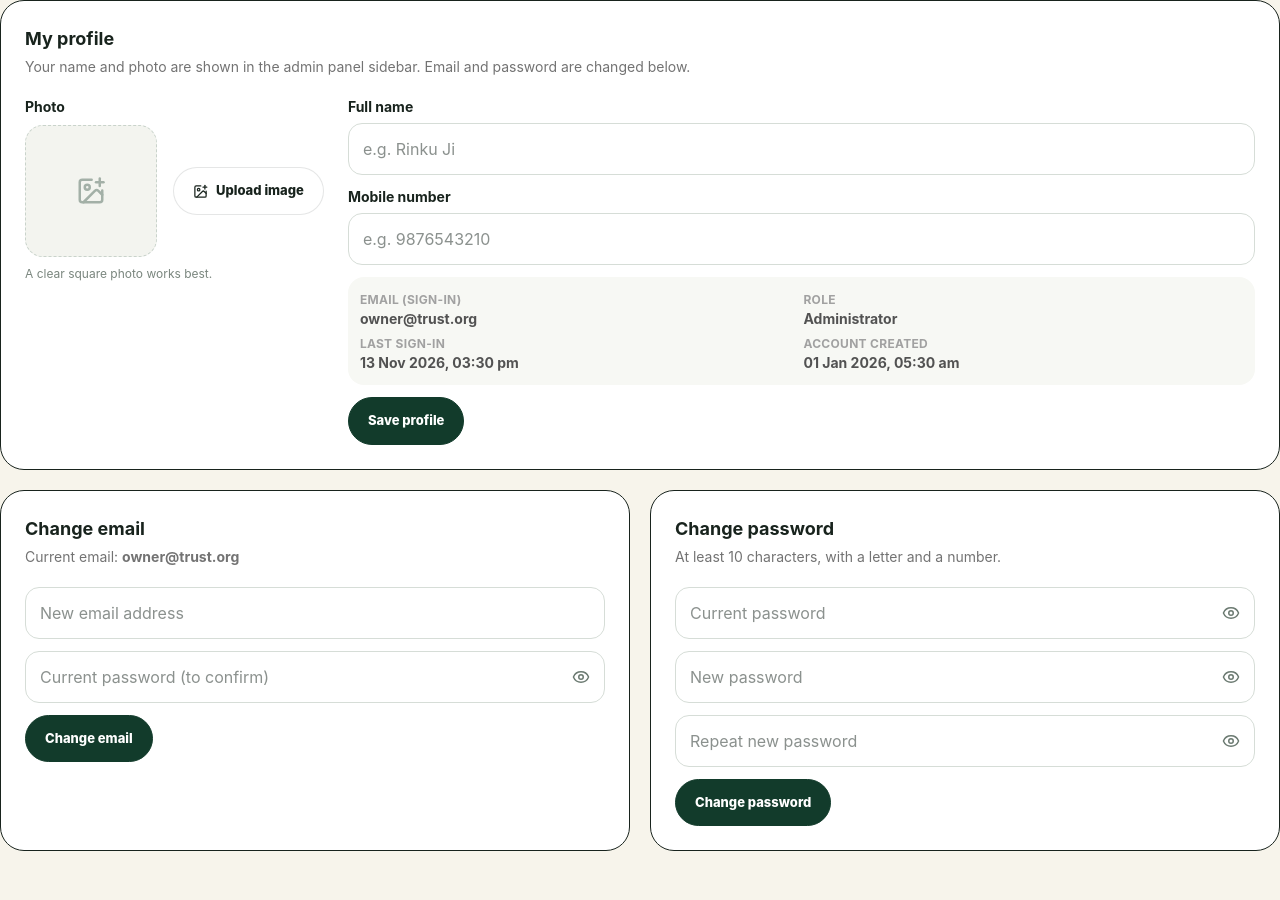
Round 7: profile, delivery charge, trust payment account, room bookings › admin profile: validates the phone, then saves name / phone / photo
Type "Rinku Ji" into the field labelled "Full name" at {"x": 801, "y": 149}, box [348, 123, 1255, 175]
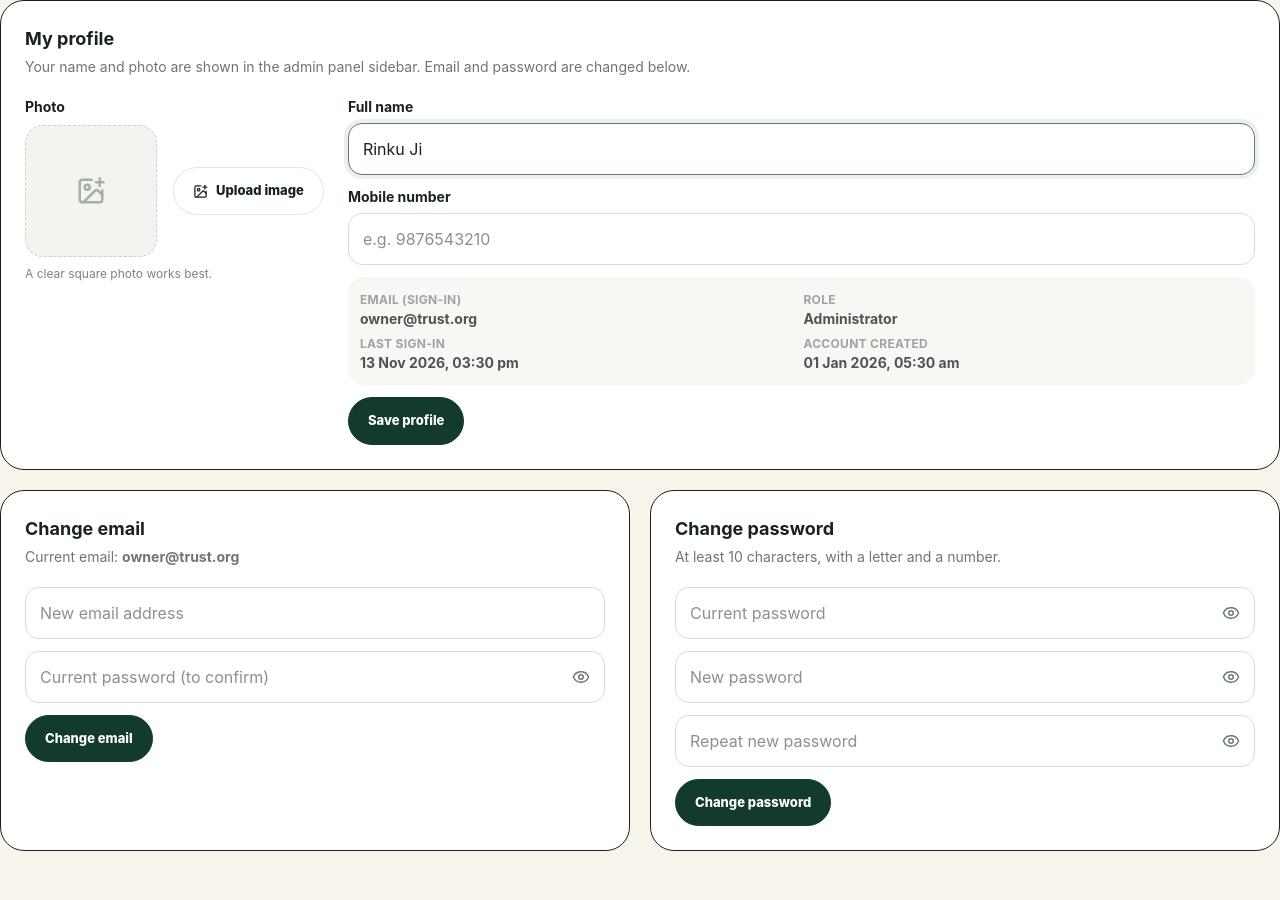
Type "12ab" into the field labelled "Mobile number" at {"x": 801, "y": 239}, box [348, 213, 1255, 265]
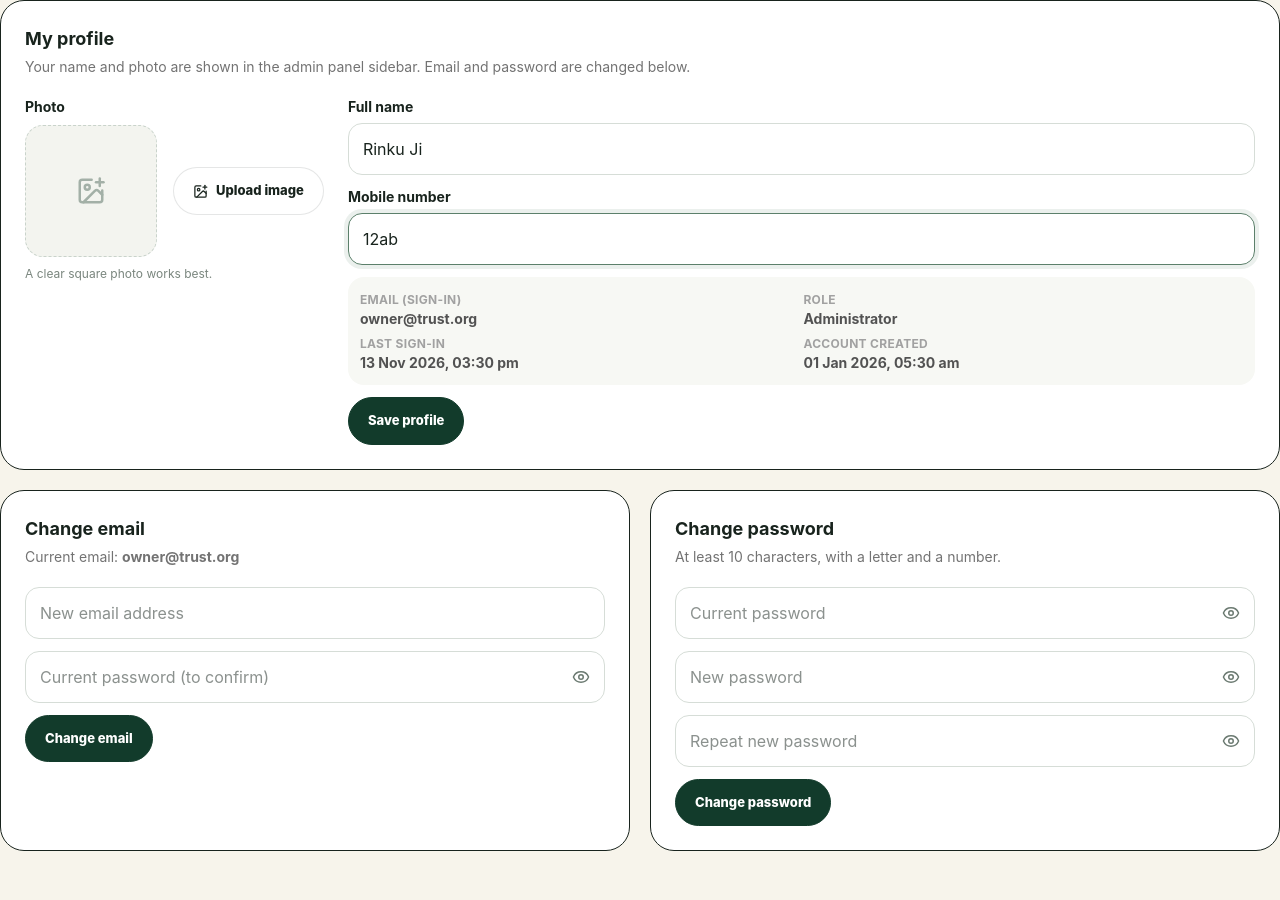
Click the button "Save profile" at {"x": 406, "y": 421}, box [348, 397, 464, 444]
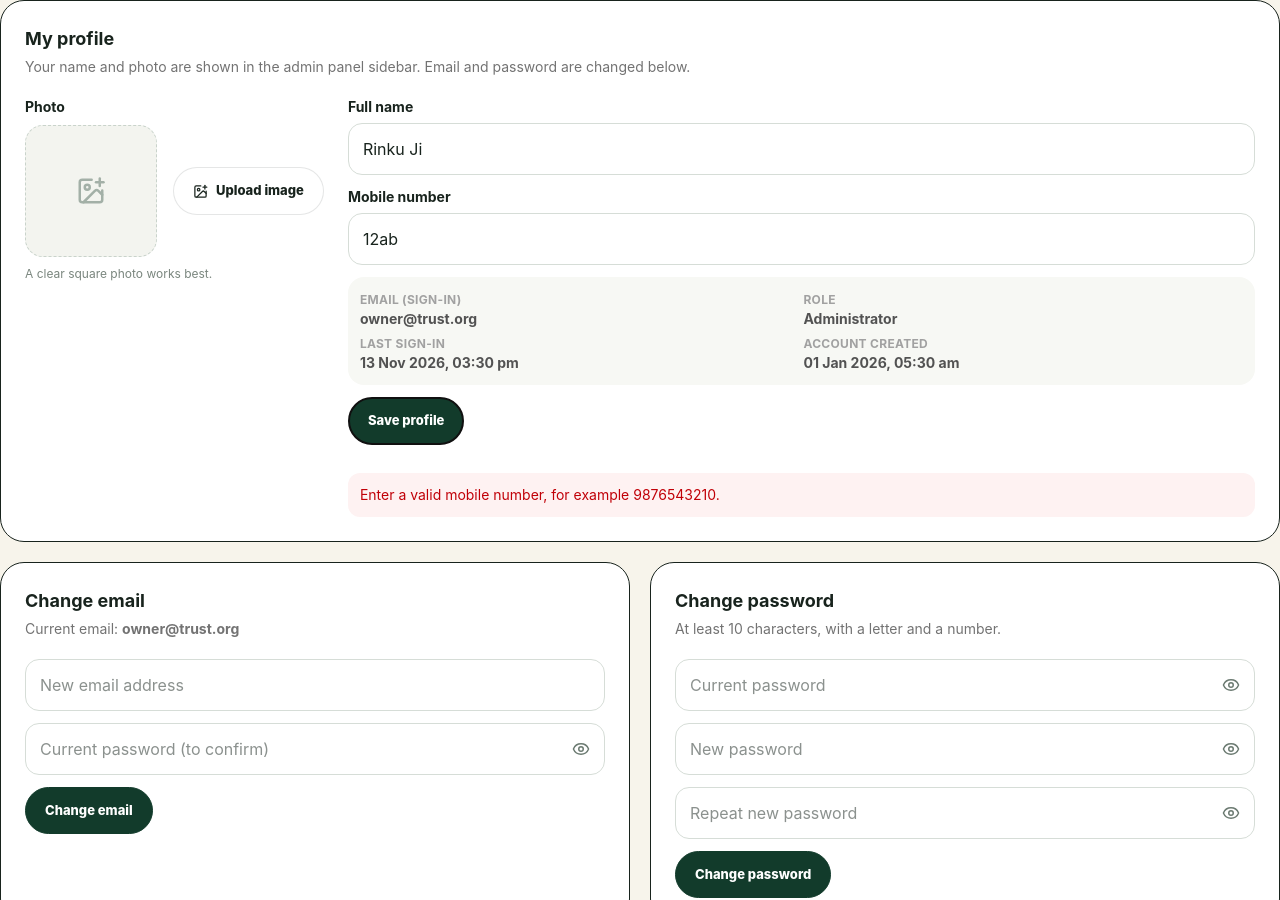
Check: the message shows "valid mobile number", box [360, 486, 720, 502]
Replace the text in the field labelled "Mobile number" with "9876543210" at {"x": 801, "y": 239}, box [348, 213, 1255, 265]
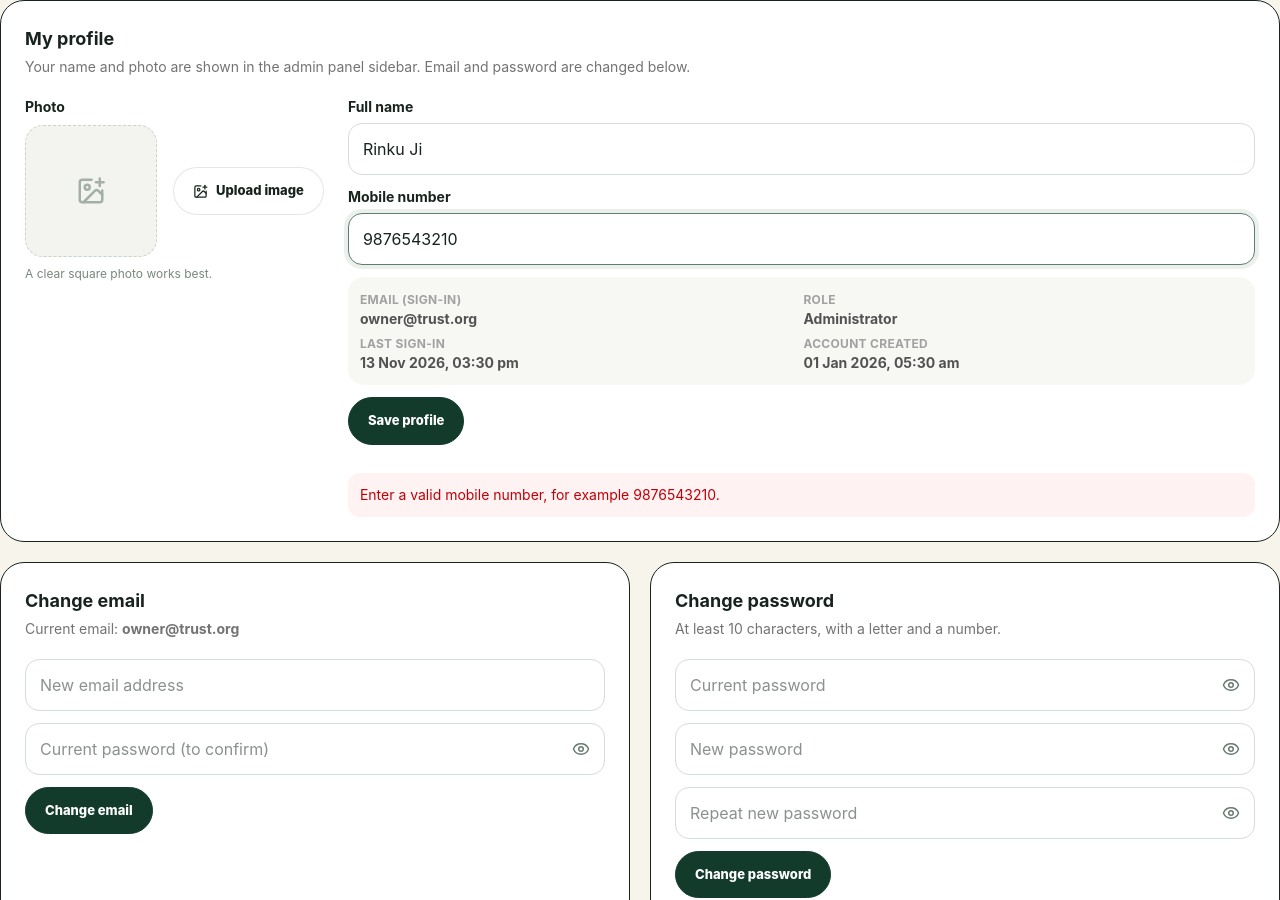
Click the button "Save profile" at {"x": 406, "y": 421}, box [348, 397, 464, 444]
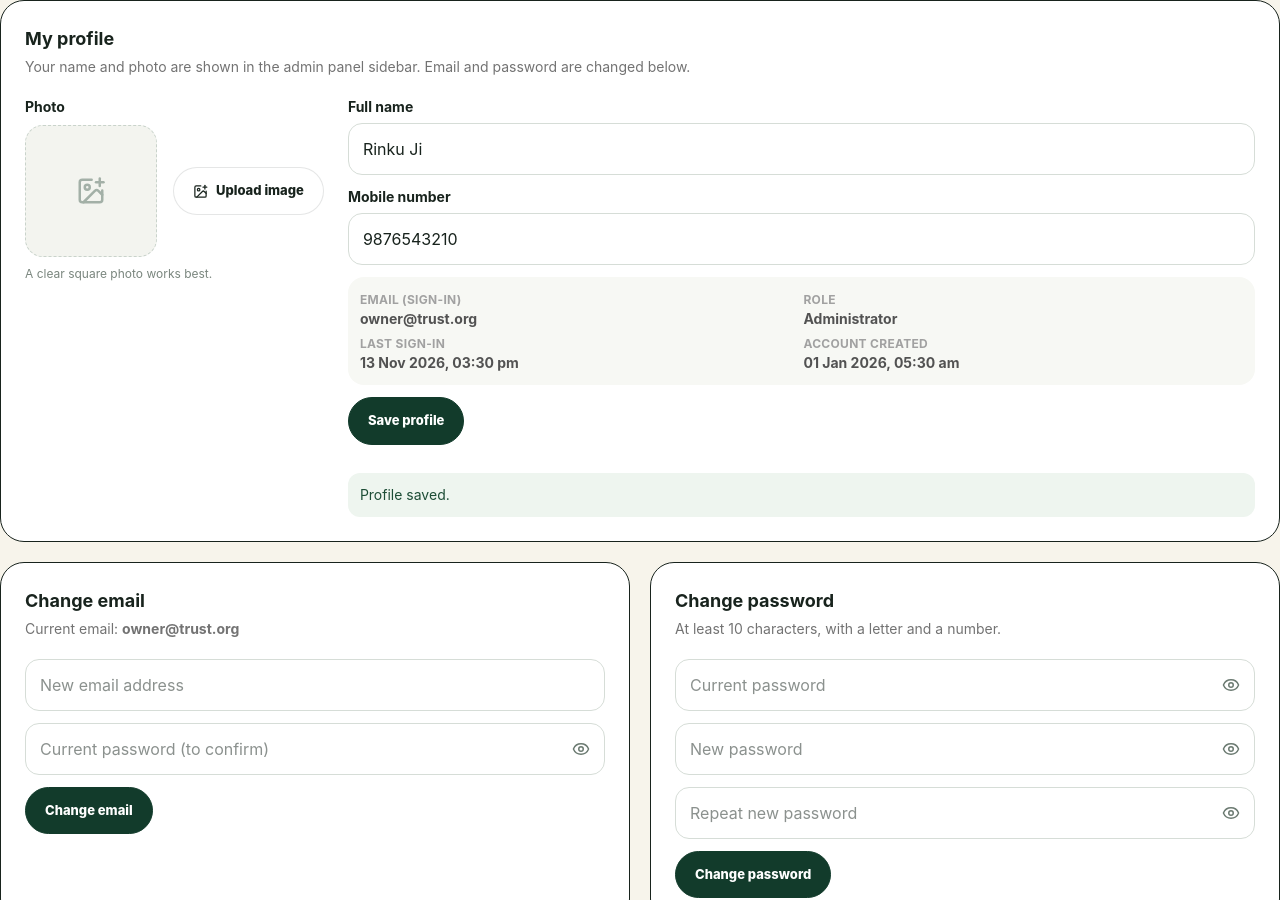
Check: the text "Profile saved." is shown, box [348, 472, 1255, 516]
